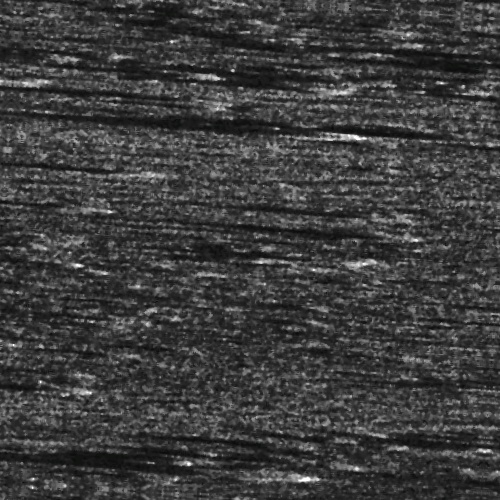object: (413, 16, 500, 57), (237, 462, 352, 477), (356, 219, 439, 228), (31, 395, 104, 404), (308, 451, 401, 458), (90, 175, 153, 182), (0, 355, 44, 364), (329, 249, 402, 254), (290, 124, 353, 129), (165, 75, 218, 80), (301, 437, 332, 442), (47, 273, 88, 276), (295, 81, 316, 84), (365, 203, 376, 208)
shadow: (130, 16, 500, 57), (0, 462, 294, 477), (275, 41, 500, 50), (172, 219, 397, 228), (37, 124, 321, 129), (175, 451, 354, 458), (198, 203, 370, 208), (194, 249, 366, 254), (0, 175, 121, 182), (201, 117, 473, 120), (360, 417, 500, 422), (0, 395, 67, 404), (198, 437, 316, 442), (128, 81, 305, 84), (440, 357, 500, 364), (432, 422, 500, 427), (130, 75, 191, 80), (0, 273, 67, 276), (441, 75, 500, 76)
